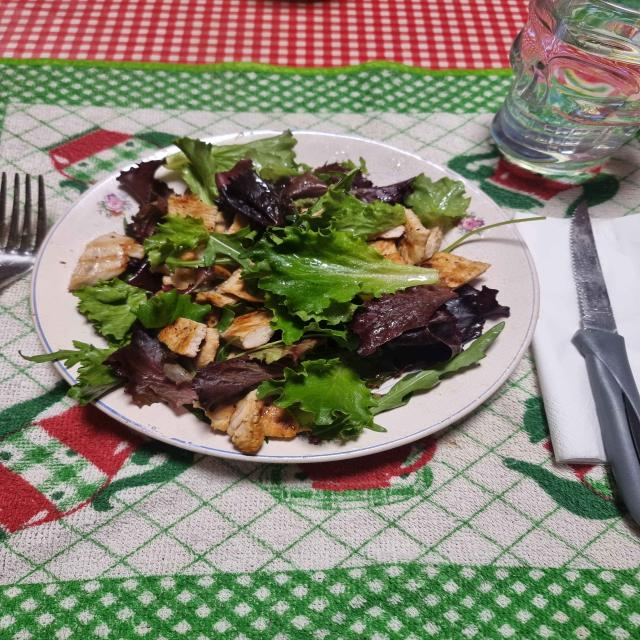chicken steak: (369, 209, 490, 288), (206, 390, 308, 454), (158, 311, 272, 367), (68, 232, 145, 291), (168, 198, 244, 234), (196, 266, 255, 308), (156, 266, 194, 290)
fork: (0, 172, 47, 288)
garbage: (515, 217, 606, 463), (592, 214, 640, 389)
knife: (570, 203, 640, 522)
lettuce: (26, 131, 503, 440)
plate: (32, 131, 537, 462)
